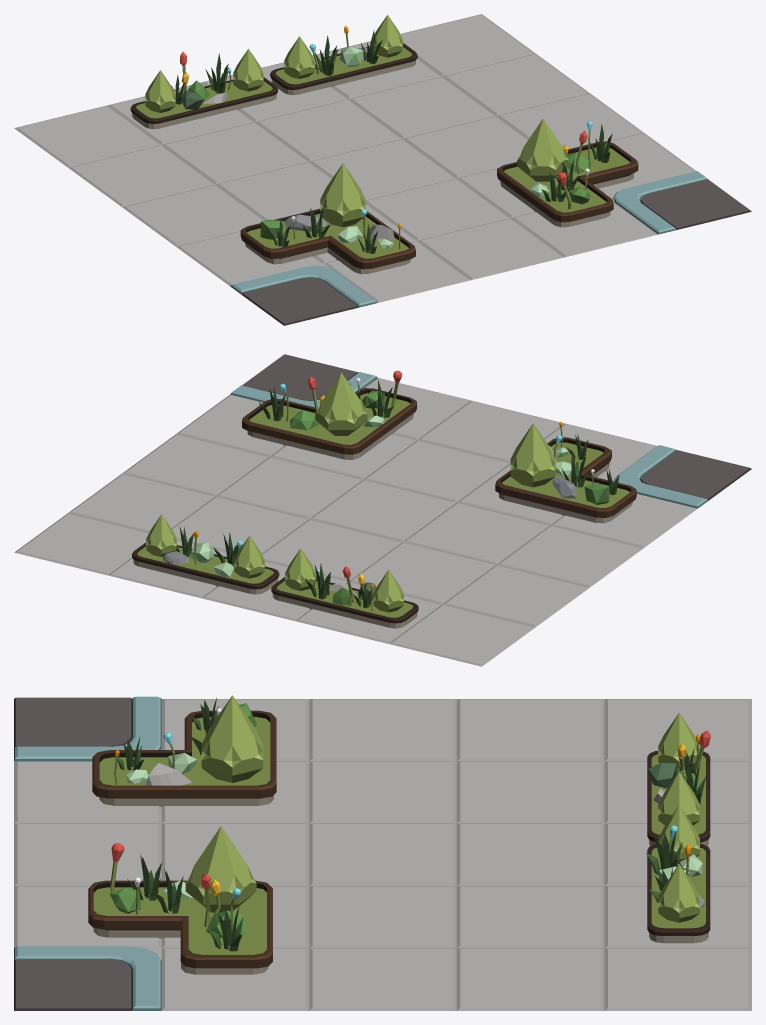
Rendered from EmptyFork_C.glb.
The picture shows the model from 3 angles, top to bottom: view 1: azimuth 30°, elevation 25°; view 2: azimuth 150°, elevation 25°; view 3: azimuth 270°, elevation 25°; orthographic projection. The views are drawn at different scales.
Parts seen in each view (by area): view 1: EmptyFork_C, Cube.040, Cube.041, Cube.060, Cube.061, Cone.041, Cone.042, Cone.040, Cone.055, Cone.056, Cone.039; view 2: EmptyFork_C, Cube.040, Cube.041, Cube.061, Cube.060, Cone.041, Cone.042, Cone.055, Cone.040, Cone.039, Cone.056; view 3: EmptyFork_C, Cube.040, Cube.041, Cone.042, Cone.041, Cube.061, Cube.060, Cone.039, Cone.056, Cone.055, Cone.040, Grass_03.116 (+7 smaller).
Boxes of the visible parts, x1,y1,x2,y2 form: EmptyFork_C: (14,14,751,325); Cube.040: (497,141,638,227); Cube.041: (240,208,415,274); Cube.060: (130,77,277,129); Cube.061: (270,43,417,95); Cone.041: (517,118,569,181); Cone.042: (320,163,365,227); Cone.040: (284,36,314,78); Cone.055: (145,70,175,112); Cone.056: (233,49,263,91); Cone.039: (373,15,402,57); EmptyFork_C: (14,354,751,666); Cube.040: (242,388,416,459); Cube.041: (495,437,636,523); Cube.061: (131,542,279,594); Cube.060: (271,577,418,628); Cone.041: (315,372,367,435); Cone.042: (510,423,555,487); Cone.055: (373,569,403,612); Cone.040: (234,536,264,578); Cone.039: (146,514,176,556); Cone.056: (285,548,315,590); EmptyFork_C: (14,696,751,1010); Cube.040: (88,880,272,974); Cube.041: (92,710,276,806); Cone.042: (201,695,263,782); Cone.041: (185,826,256,912); Cube.061: (647,844,710,943); Cube.060: (647,750,710,845); Cone.039: (658,864,699,922); Cone.056: (658,771,699,825); Cone.055: (658,713,699,770); Cone.040: (658,805,699,863); Grass_03.116: (208,906,243,951).
Size of what is drawn, in the model's own units: 16 by 2.35 by 16.
1 material, 1 textured.
